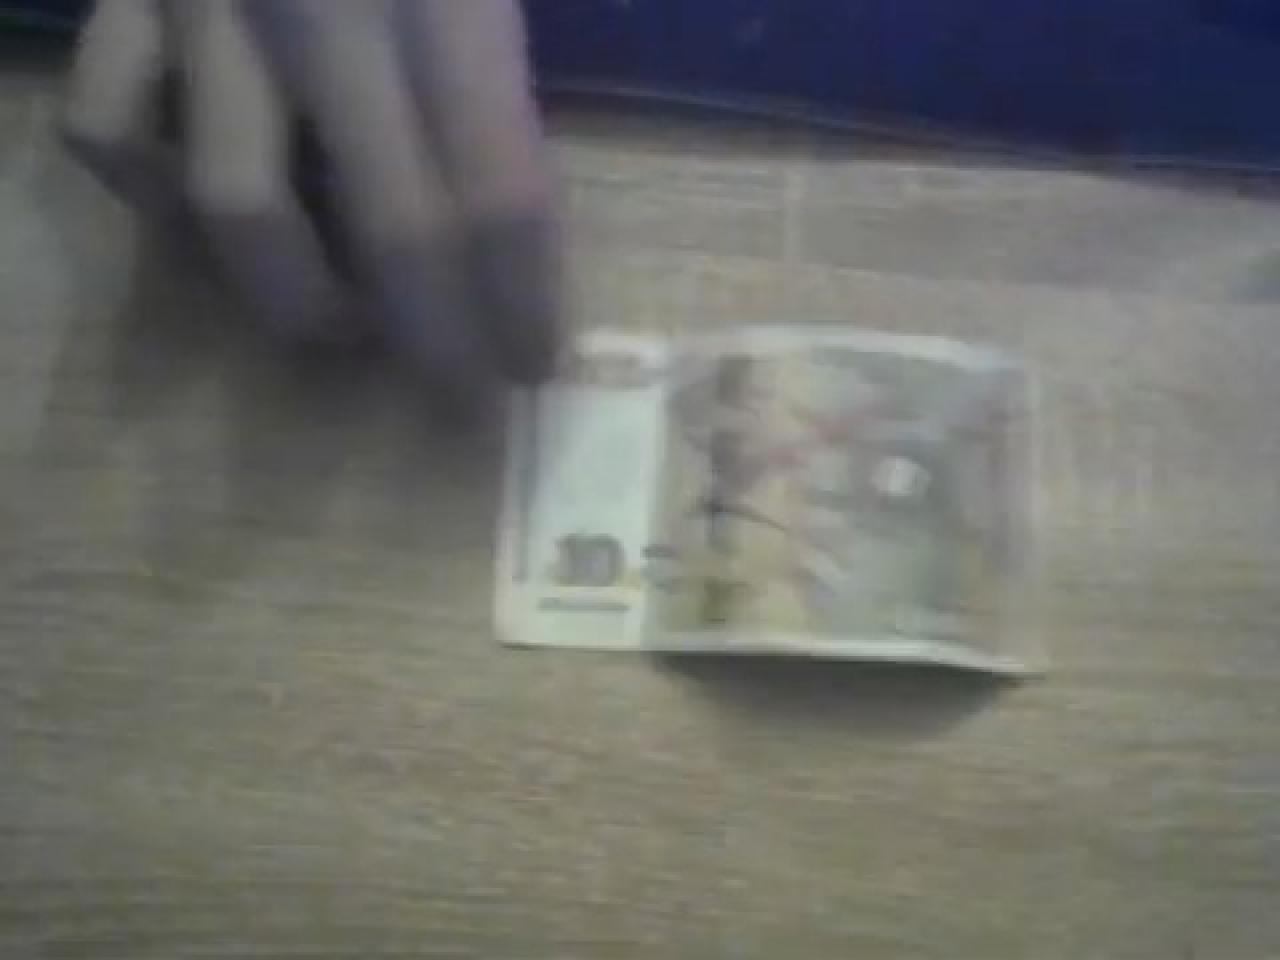10leva: (493, 326, 1050, 678)
